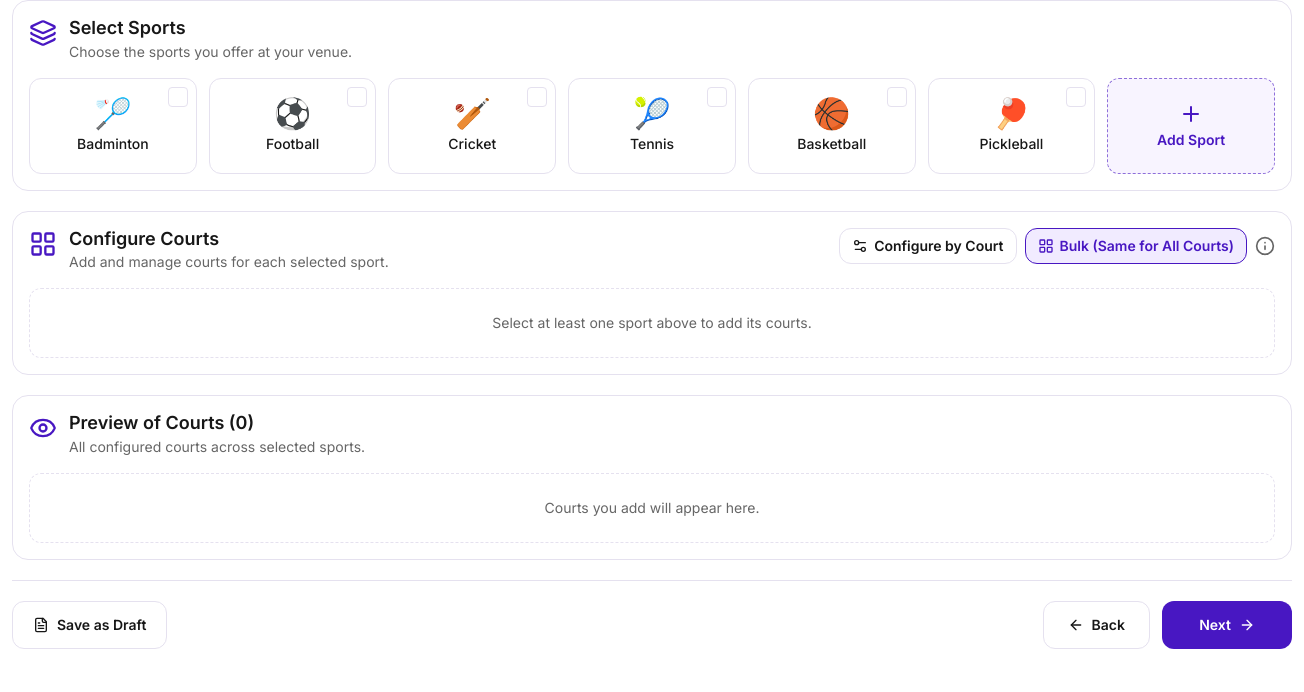
Scenario: SportsCourtsForm › Next with no sport selected says so and does not continue
The width and height of the screenshot is (1304, 692).
Click the button "Next". click: [1227, 624]
box: [1162,600,1292,648]
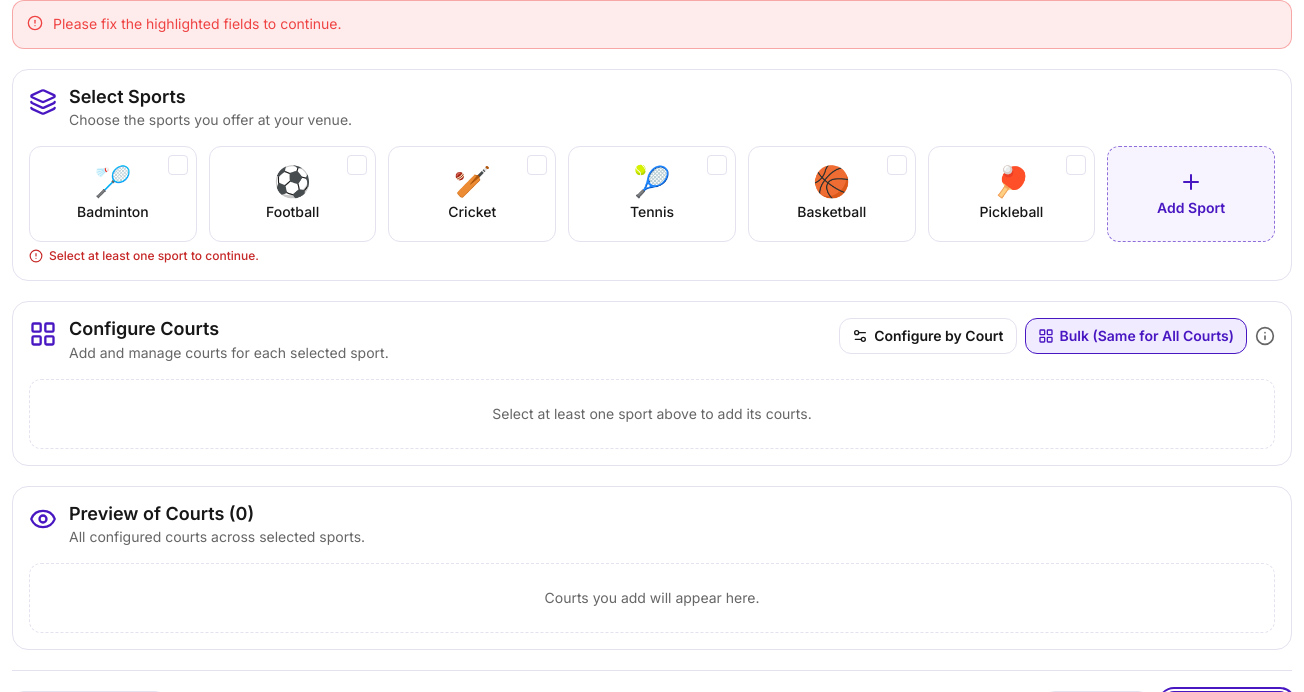
Expected: the text "Select at least one sport to continue." is shown, [29,248,259,263]
